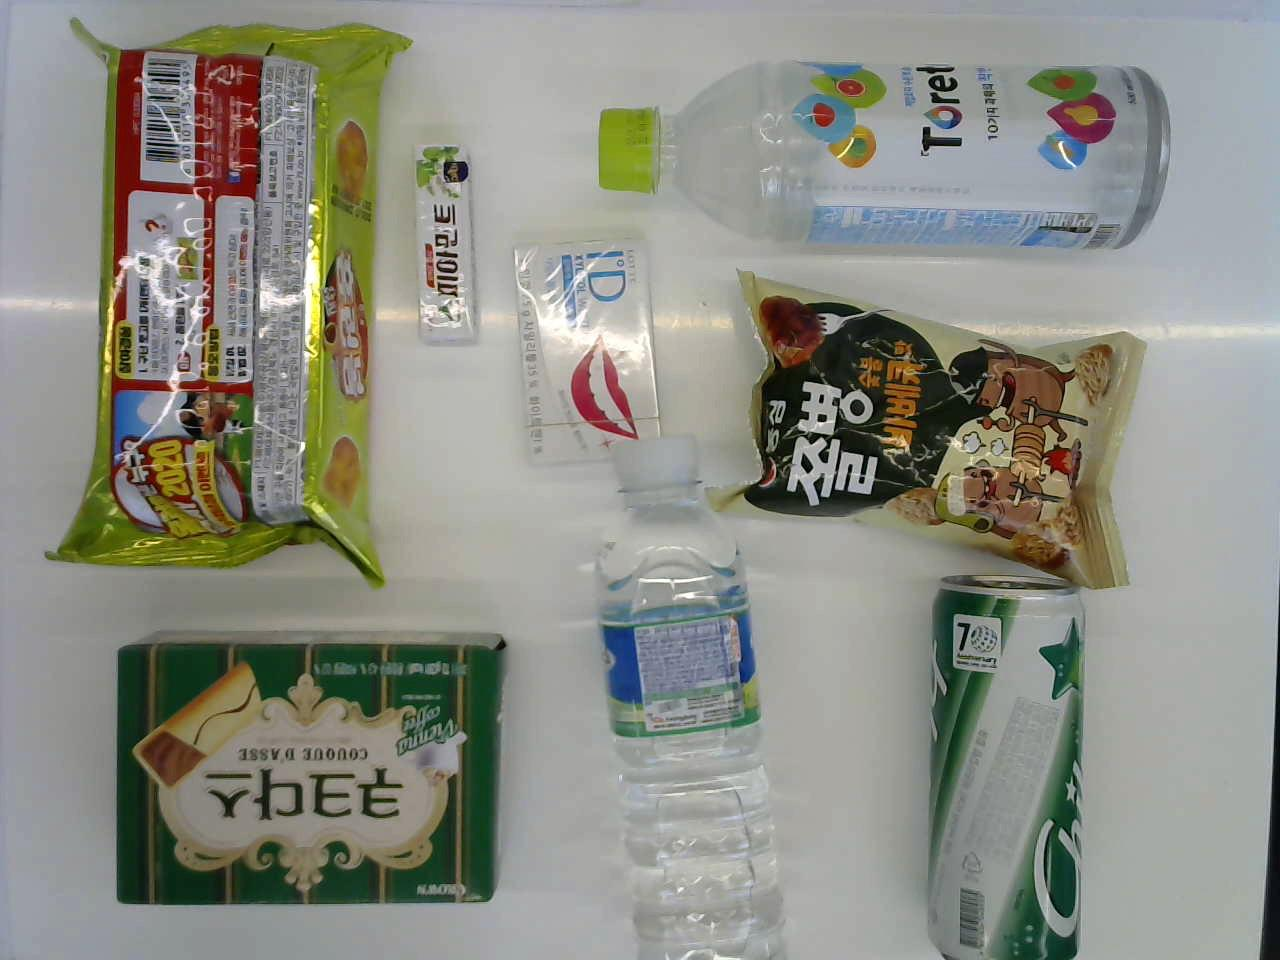ID_gum: (500, 222, 655, 469)
cidar: (904, 565, 1089, 946)
couque_coffee: (103, 615, 515, 919)
homerunball: (66, 9, 389, 591)
jjolbyung_ori: (736, 270, 1131, 587)
samdasu: (594, 427, 771, 953)
spearmint: (405, 130, 493, 343)
toreta: (586, 39, 1169, 255)
